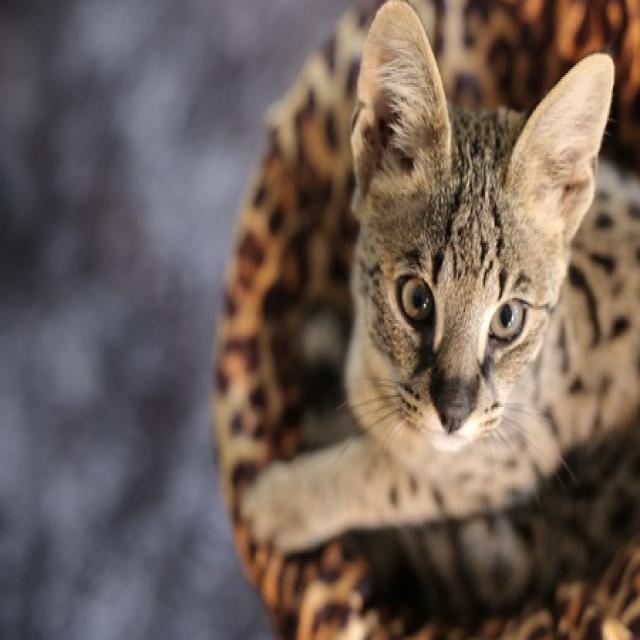Savannah: (237, 0, 640, 565)
